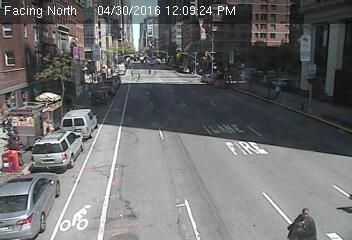neg: (225, 49, 239, 67), (262, 81, 275, 98)
pos: (293, 205, 318, 237), (8, 132, 21, 149), (274, 85, 284, 98)
